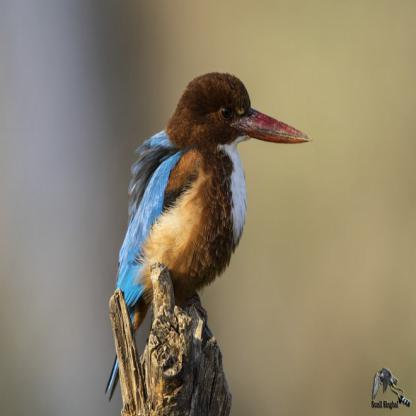Burung: (103, 73, 309, 398)
